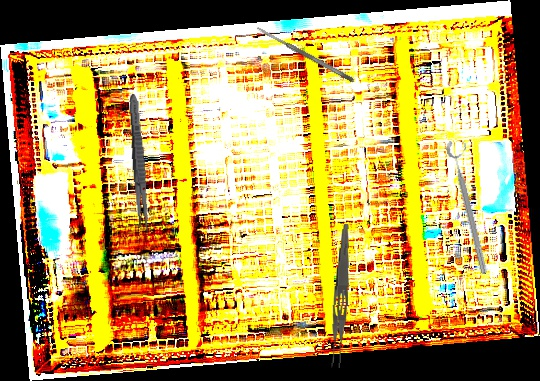Dressing Forceps: (125, 93, 153, 236), (328, 223, 352, 369)
Fixation Ring: (444, 137, 499, 276)
Spatula Surgical: (254, 24, 356, 84)
